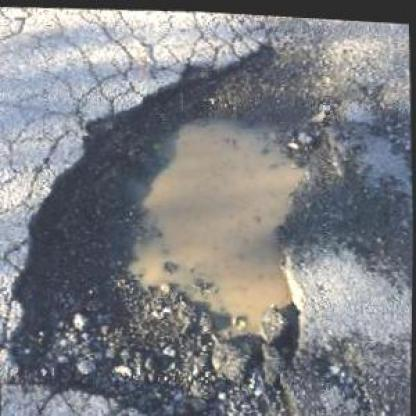pothole: (0, 24, 351, 414)
